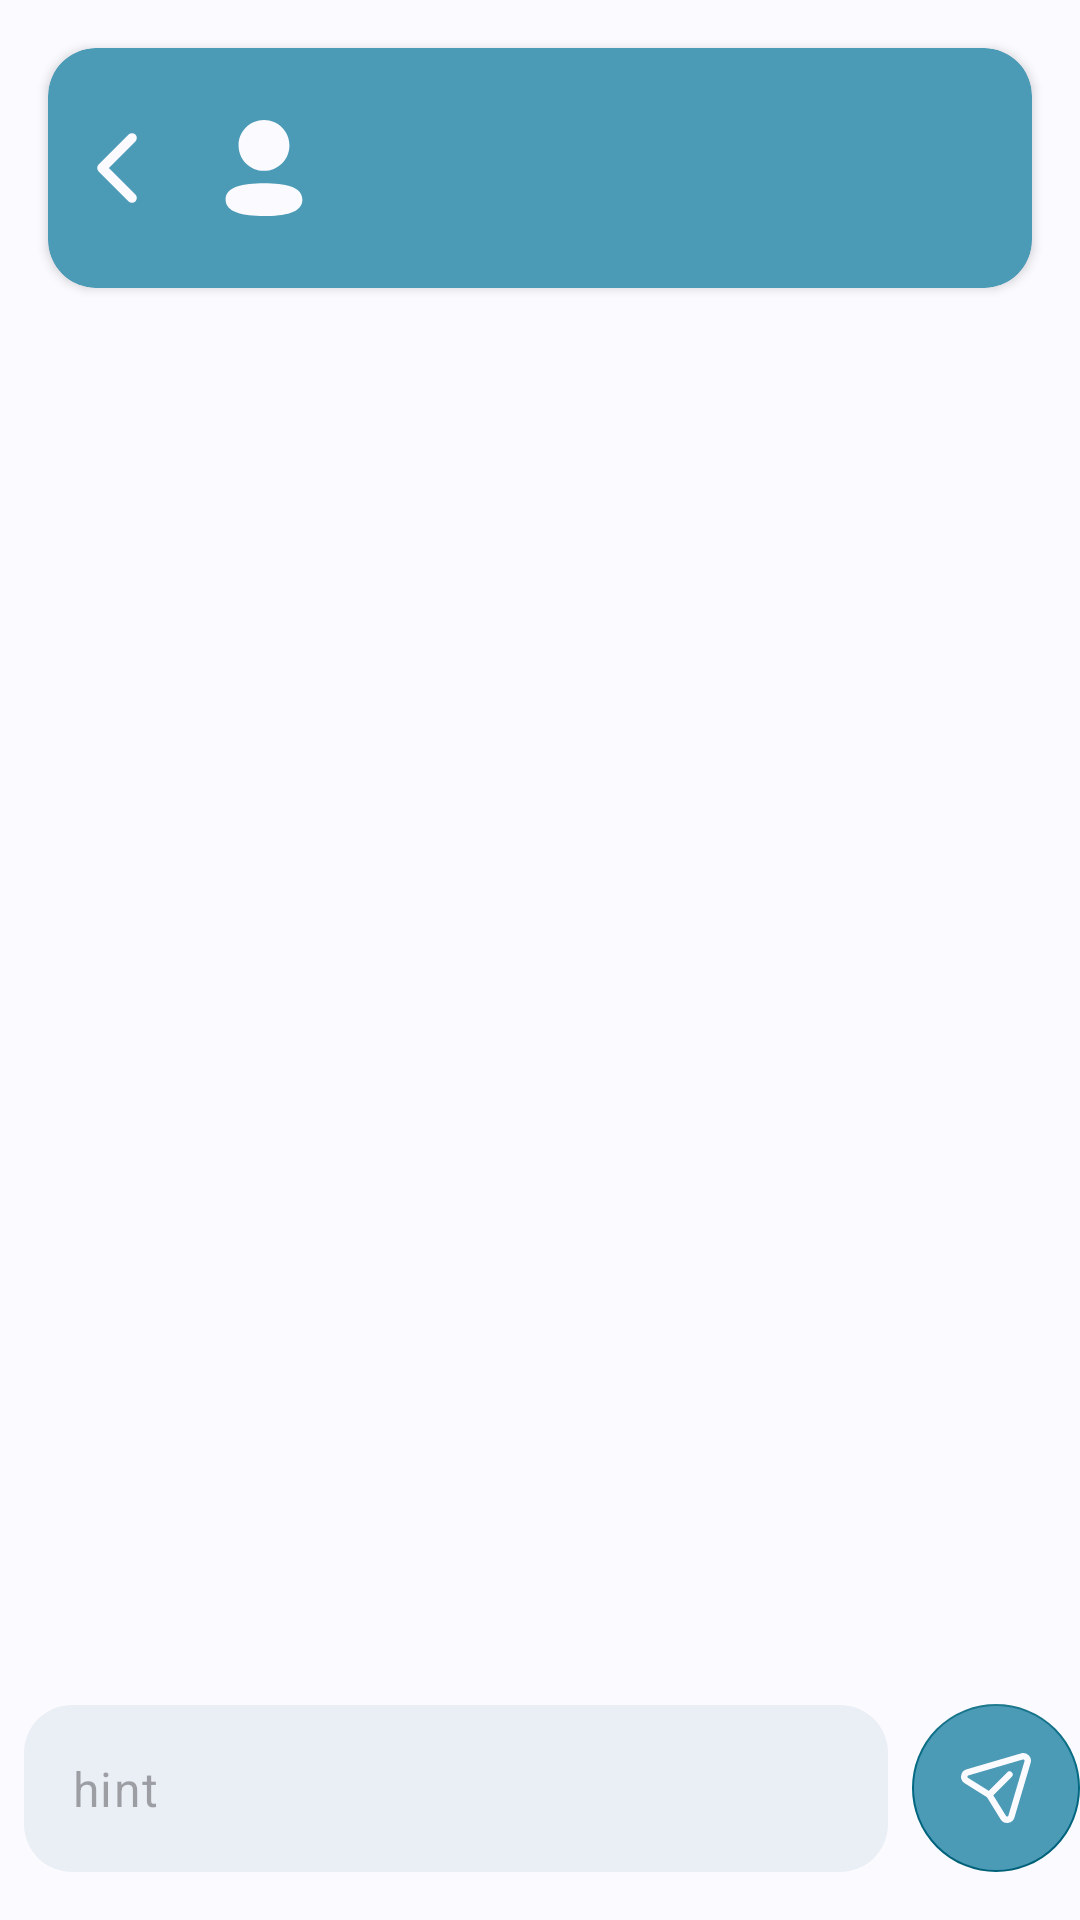

Screen size 1080×1920. Icon name, then its center in pixels as (x=x, y=y):
caretleft: (x=117, y=168)
Kirim: (x=996, y=1788)
profile: (x=264, y=168)
